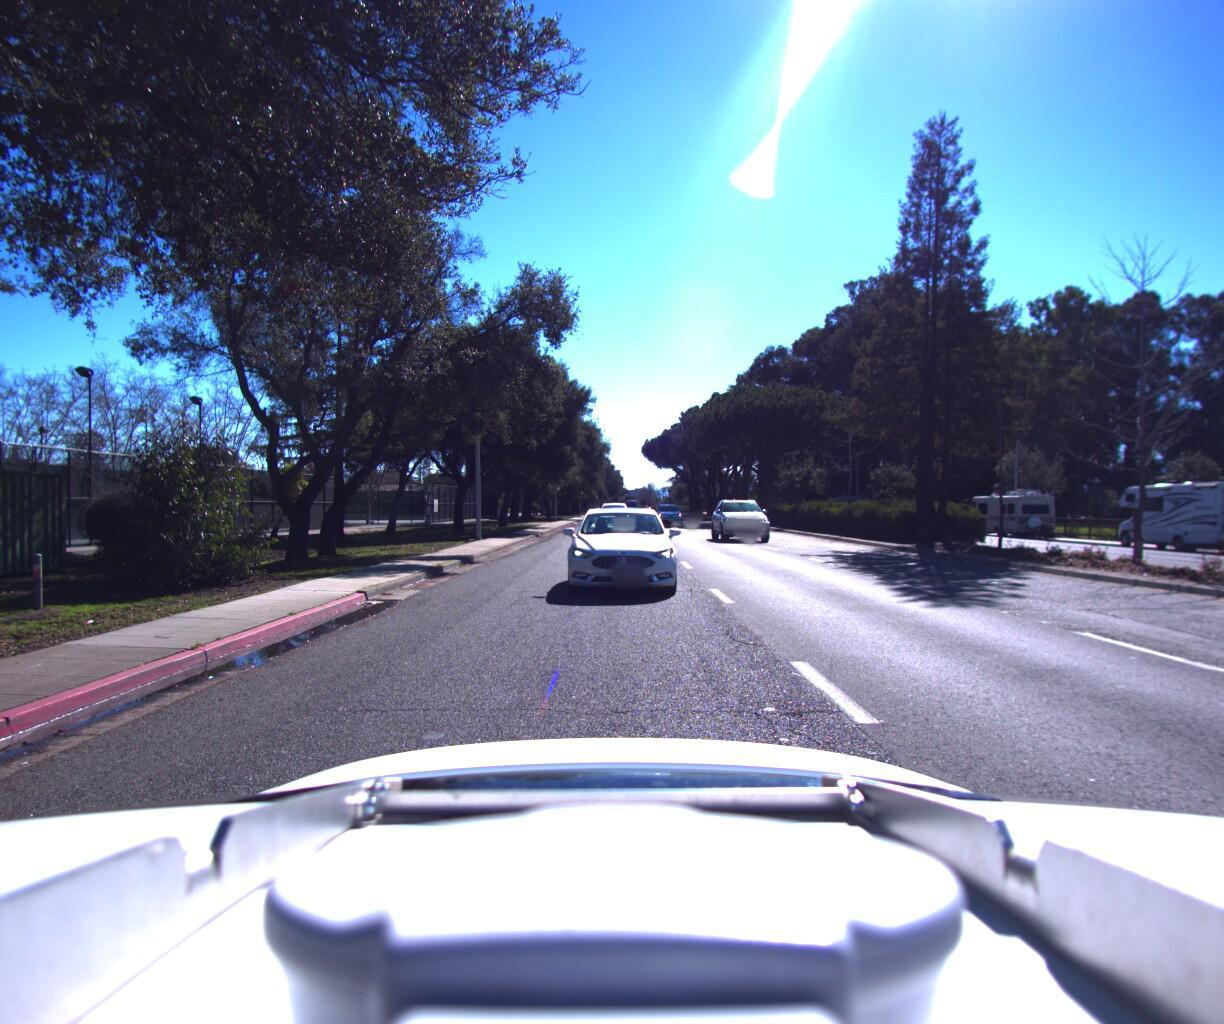car: (555, 499, 686, 609), (713, 493, 782, 541), (654, 499, 685, 525)
other_vehicle: (1105, 469, 1224, 558), (961, 481, 1063, 536)
